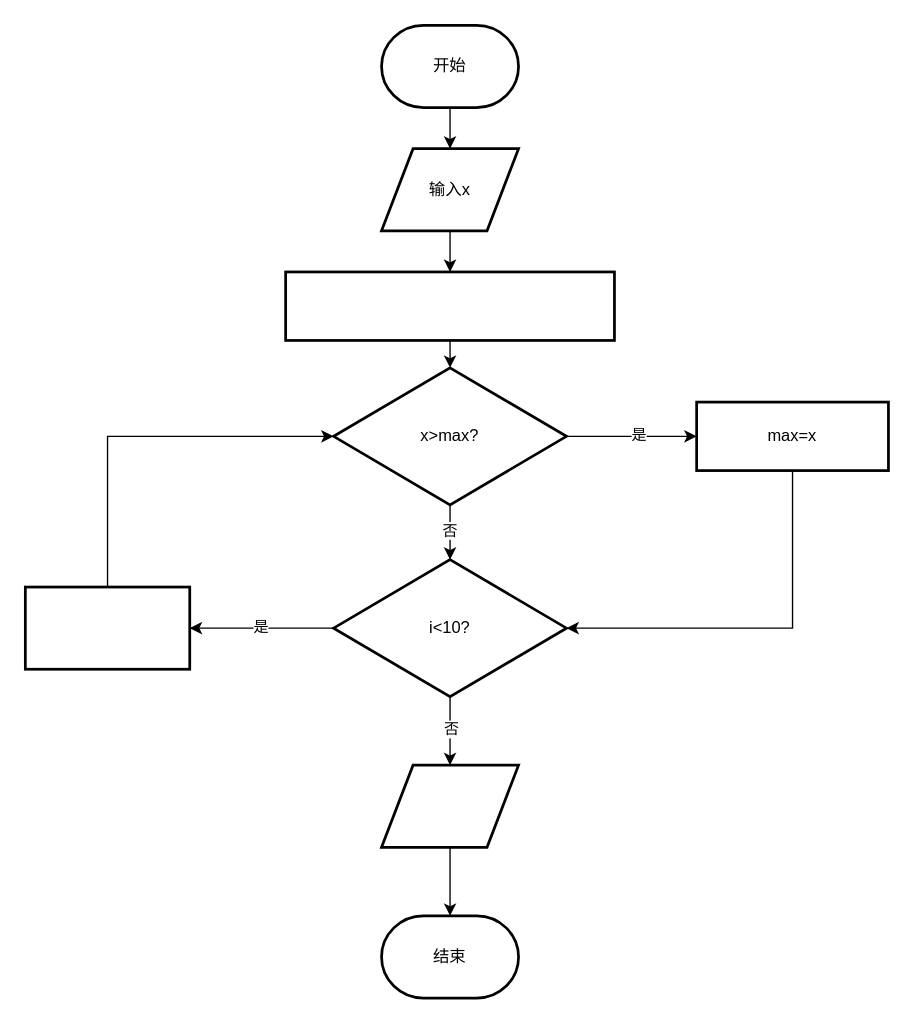
Image size: 912x1022. Some labels were removed from this diagram. The shapes that lost their labels are listed below. From the top down, each one's centre as x and y in pixels, then its label:
At (449,305): "i = 2，令 max = x".
At (106,627): "i++".
At (449,805): "输出max".
